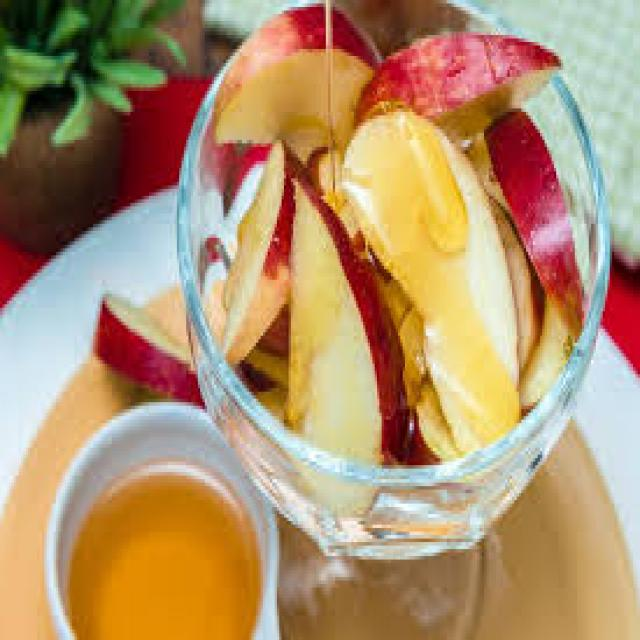Apple: (346, 120, 526, 451), (286, 180, 384, 470), (484, 111, 604, 335), (206, 7, 356, 151), (366, 35, 560, 121), (93, 294, 193, 418), (228, 143, 284, 359)
